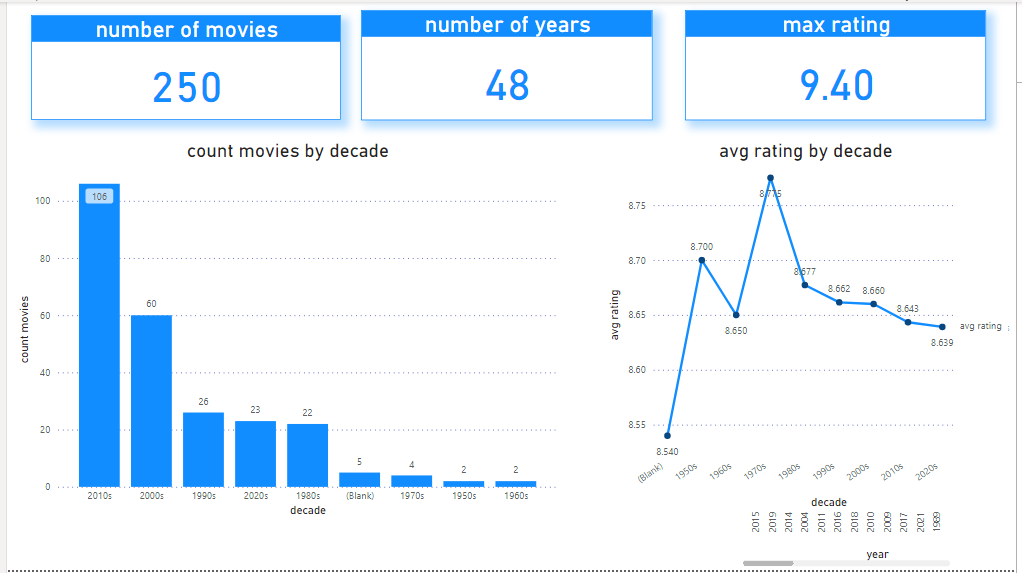

The dashboard page shown, as its layout file describes it:
{"tool":"powerbi","page":{"name":"Page 1","canvas":[1280,720],"ordinal":0},"visuals":[{"type":"card","title":"max rating","fields":{"Values":["top_movies.max rating"]},"box":[860.1,10.1,381.8,139.5],"z":0},{"type":"card","title":"number of  movies","fields":{"Values":["top_movies.count movies"]},"box":[30.4,16.5,393.3,133.2],"z":1000},{"type":"card","title":" number of years","fields":{"Values":["top_movies.#year"]},"box":[449.1,10.1,370.4,139.5],"z":2000},{"type":"lineStackedColumnComboChart","fields":{"Category":["top_movies.decade"],"Y":["top_movies.count movies"]},"box":[8.9,175.1,404.7,534.1],"z":3000},{"type":"lineChart","fields":{"Category":["top_movies.year"],"Y":["top_movies.count movies"]},"box":[884.2,208,395.8,512.5],"z":4000},{"type":"lineChart","fields":{"Y":["top_movies.avg rating"],"Category":["top_movies.decade","top_movies.year"]},"box":[837.3,175.1,432.6,545.5],"z":5000}]}

Visuals, with their boxes in screenshot pixels (x1, y1, x2, y2), scaled from the page's 1280x720 canvas onto the 1022x573 screenshot:
"max rating" card: 687 8 992 119
"number of  movies" card: 24 13 338 119
" number of years" card: 359 8 654 119
lineStackedColumnComboChart - top_movies.decade x top_movies.count movies: 7 139 330 564
lineChart - top_movies.year x top_movies.count movies: 706 166 1021 572
lineChart - top_movies.avg rating x top_movies.decade: 669 139 1014 572
